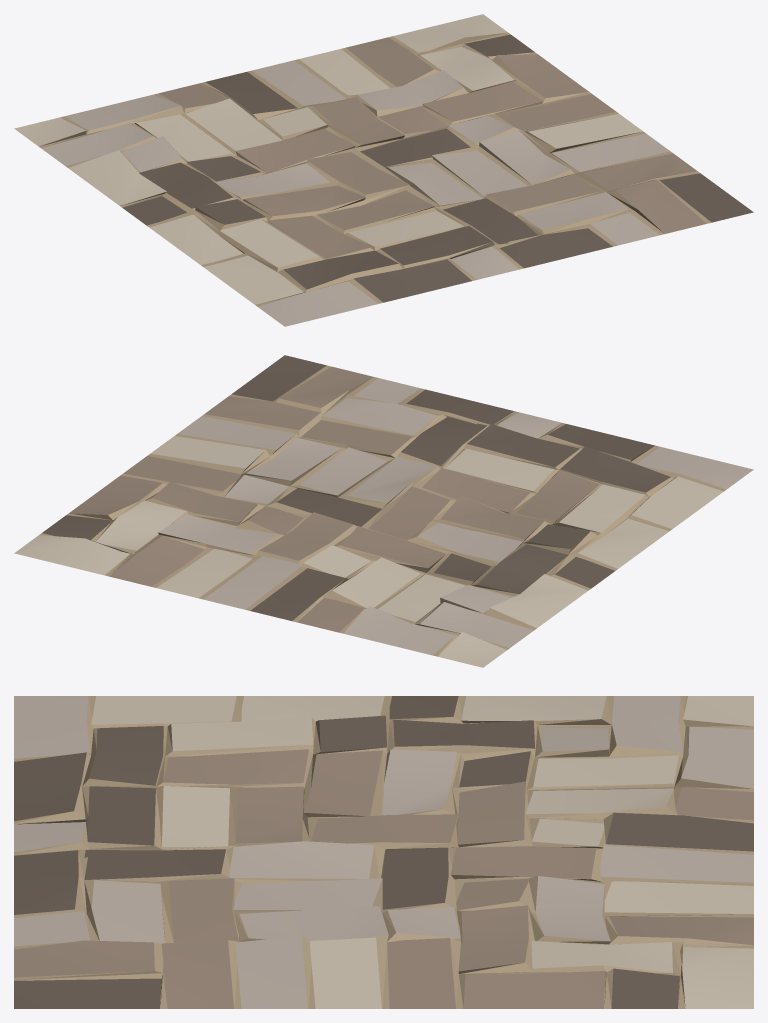
The model's file is RG-Dungeon_Floor-01.fbx.
The picture shows the model from 3 angles, top to bottom: view 1: azimuth 30°, elevation 25°; view 2: azimuth 150°, elevation 25°; view 3: azimuth 270°, elevation 25°; orthographic projection. The views are drawn at different scales.
Parts seen in each view (by area): view 1: RG-Dungeon_Floor-01; view 2: RG-Dungeon_Floor-01; view 3: RG-Dungeon_Floor-01.
Part boxes in pixels (x1,y1,x2,y2): RG-Dungeon_Floor-01: (14,14,753,326); RG-Dungeon_Floor-01: (14,355,753,667); RG-Dungeon_Floor-01: (14,696,753,1008).
Size of the model in its own units: 30 by 0.6287 by 30.
